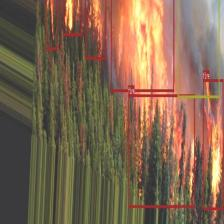fire: (128, 94, 195, 207), (110, 0, 174, 91), (203, 79, 223, 209), (85, 0, 106, 59), (63, 0, 81, 35), (45, 0, 57, 49)
smoke: (177, 0, 219, 97)
